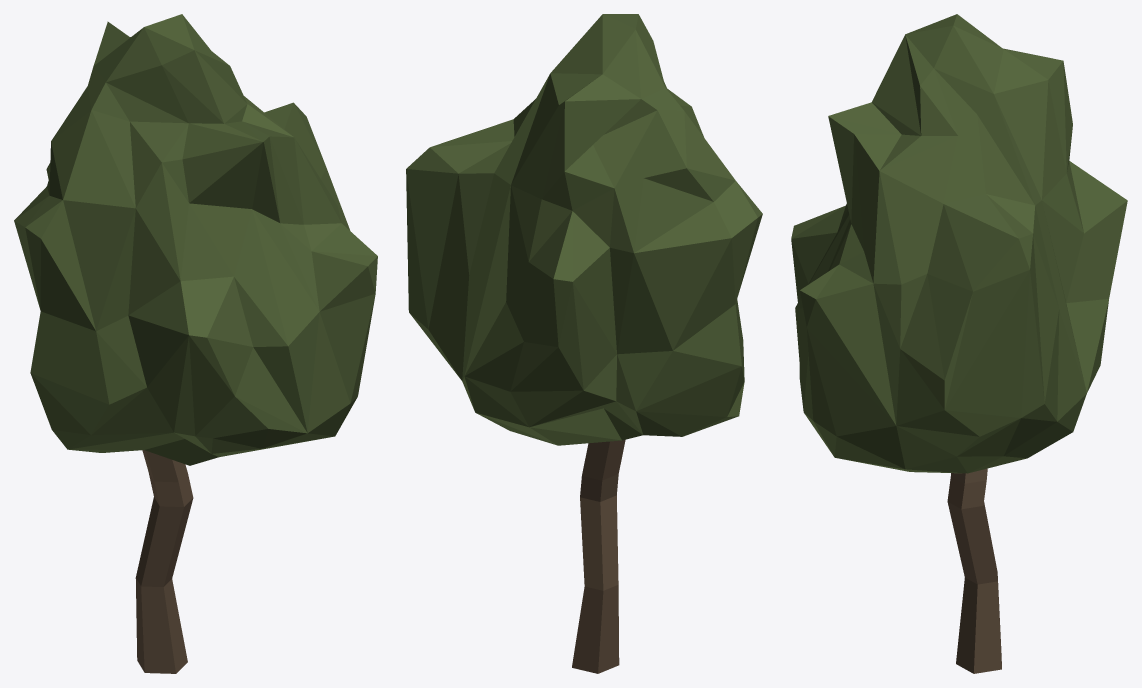
File: Tree_17.gltf
3 views of the same model, side by side, from view 1: azimuth 30°, elevation 25°; view 2: azimuth 150°, elevation 25°; view 3: azimuth 270°, elevation 25° (orthographic). The views are drawn at different scales.
Visible parts, largest first — view 1: Tree_17; view 2: Tree_17; view 3: Tree_17.
Boxes of the visible parts, x1,y1,x2,y2 form: Tree_17: [14, 14, 377, 673]; Tree_17: [406, 14, 762, 673]; Tree_17: [791, 14, 1127, 673].
Bounding box in the file's own units: 0.5131 × 0.9701 × 0.462.
Materials: 1 (1 with a texture image).
